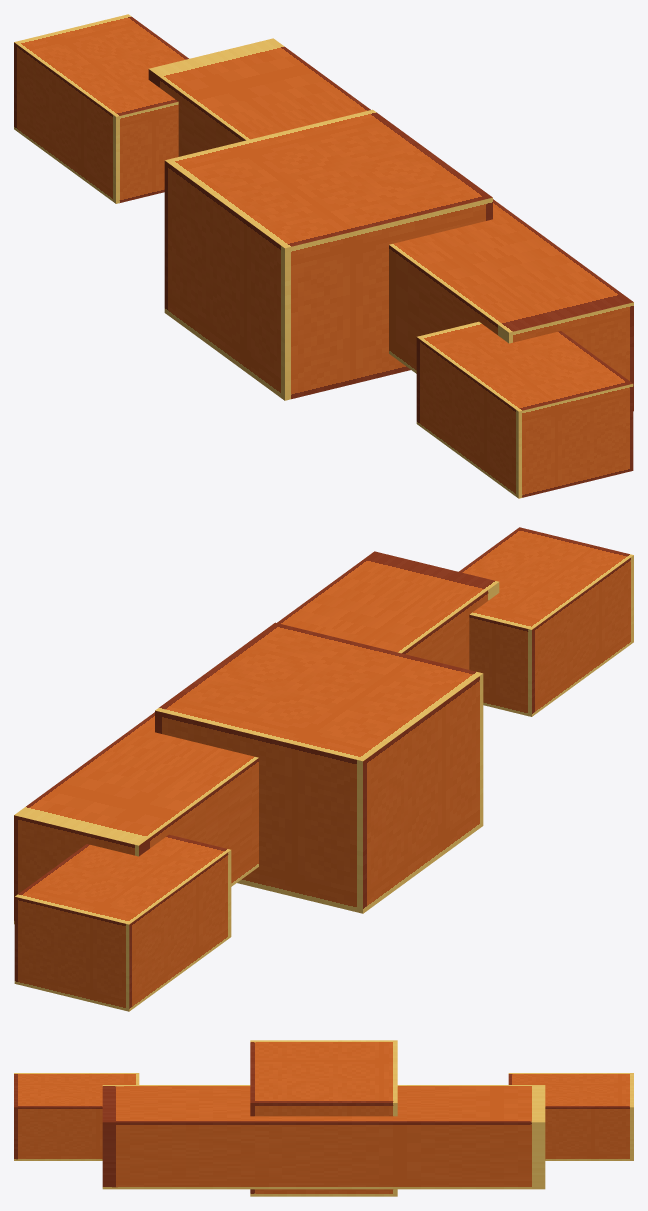
Rendered from bench_pickaxe_0_hot.obj.
3 views of the same model, one above another, from view 1: azimuth 30°, elevation 25°; view 2: azimuth 150°, elevation 25°; view 3: azimuth 270°, elevation 25° (orthographic). The views are drawn at different scales.
Visible parts, largest first — view 1: geometry; view 2: geometry; view 3: geometry.
Boxes of the visible parts, bbox=[...] form: geometry: bbox=[14, 14, 633, 498]; geometry: bbox=[14, 527, 633, 1011]; geometry: bbox=[14, 1040, 633, 1196].
Size of the model in its own units: 0.1964 by 0.125 by 0.75.
